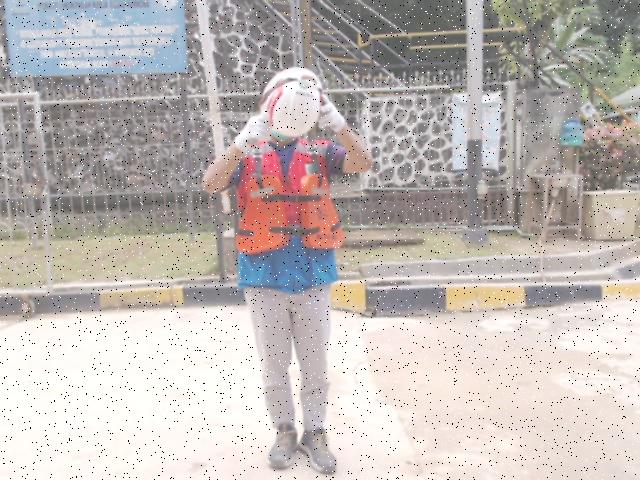gloves: (234, 114, 271, 152), (321, 93, 345, 135)
helmet: (260, 67, 320, 136)
safety-shoes: (297, 426, 338, 475), (266, 424, 297, 472)
vest: (235, 171, 343, 257)
